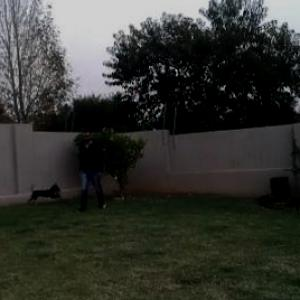follow: (77, 122, 105, 216)
